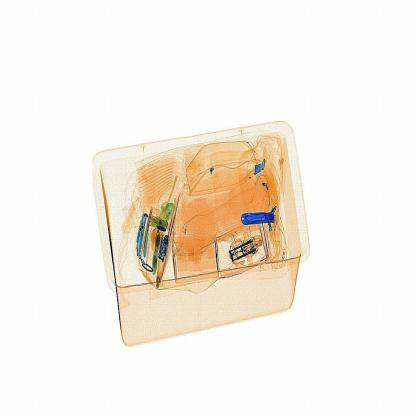knife: (239, 206, 286, 228)
